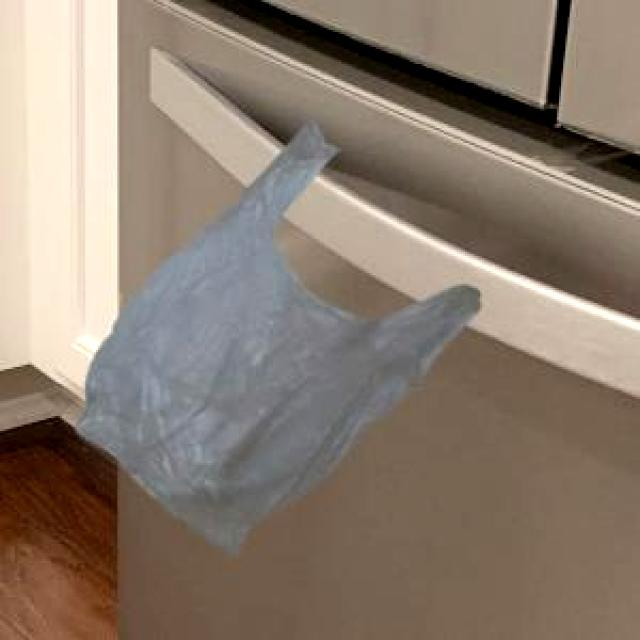Plastic_Bag: (74, 119, 476, 552)
